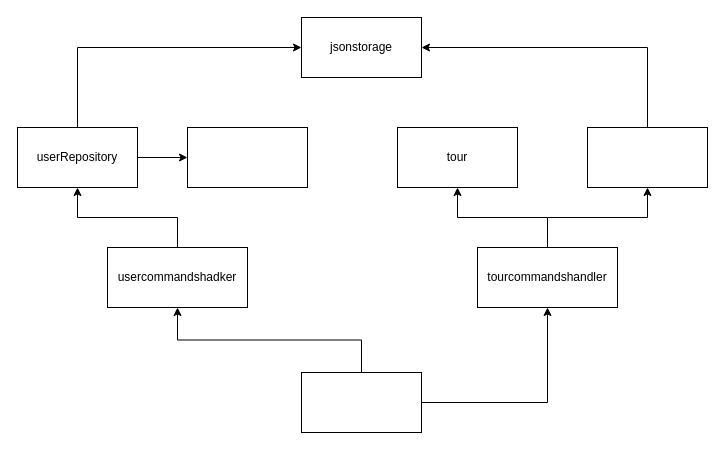
Some shapes in this 725 by 450 pixel diagram are drawn without their labels. The box of each missing label's shape, as (x1, y1, x2, y2) in pixels:
app: (300, 372, 422, 432)
tourrepository: (586, 126, 708, 188)
user: (186, 126, 308, 188)
